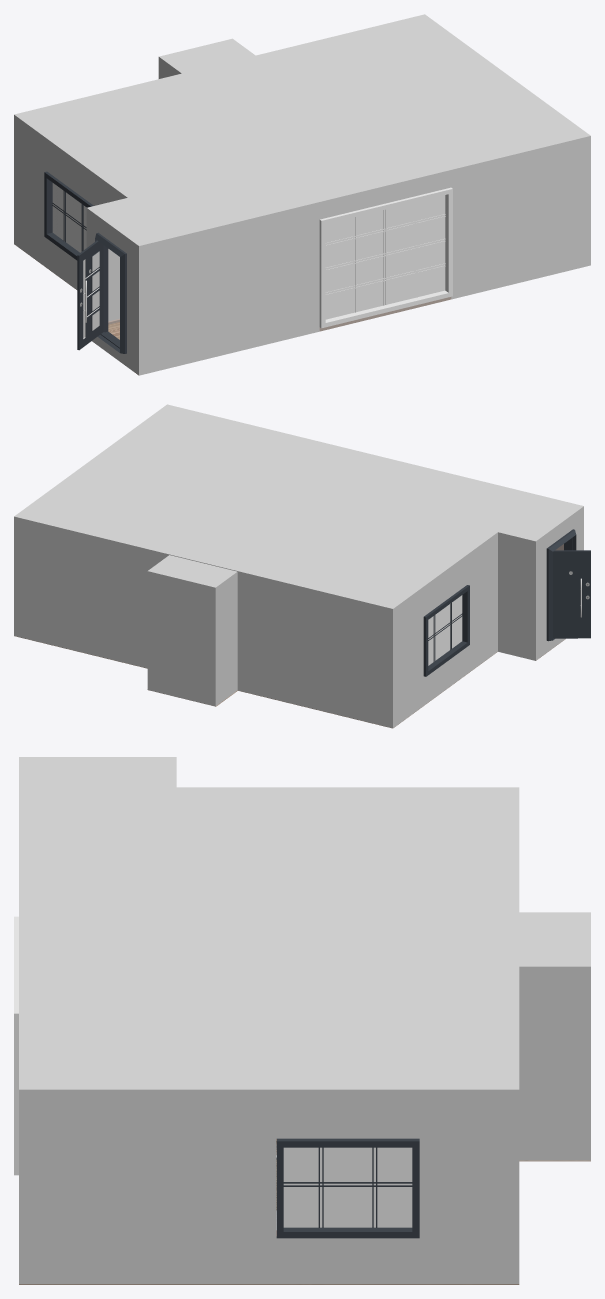
File: living-room.glb
3 views of the same model, one above another, from view 1: azimuth 30°, elevation 25°; view 2: azimuth 150°, elevation 25°; view 3: azimuth 270°, elevation 25° (orthographic). The views are drawn at different scales.
Parts seen in each view (by area): view 1: celling, wall_S, window_big, wall_W, window_small.001, Cube.065, wall_N, Cube.014, wall_E; view 2: celling, wall_N, wall_W, Cube.065, window_small.001, Cube.014, wall_E; view 3: celling, wall_E, wall_N, window_small, window_big.
Boxes of the visible parts, x1,y1,x2,y2 form: celling: (14, 14, 590, 246); wall_S: (134, 138, 582, 375); window_big: (319, 187, 452, 328); wall_W: (14, 115, 134, 371); window_small.001: (44, 171, 93, 260); Cube.065: (77, 240, 103, 350); wall_N: (158, 38, 255, 78); Cube.014: (95, 232, 126, 353); wall_E: (582, 136, 590, 267); celling: (14, 404, 583, 609); wall_N: (21, 519, 385, 726); wall_W: (385, 510, 579, 728); Cube.065: (553, 550, 590, 638); window_small.001: (423, 585, 469, 676); Cube.014: (546, 529, 576, 641); wall_E: (14, 517, 21, 637); celling: (19, 757, 519, 1090); wall_E: (19, 1090, 519, 1284); wall_N: (519, 912, 590, 1160); window_small: (276, 1138, 419, 1238); window_big: (14, 916, 18, 1175).
Size of the model in its own units: 11.92 by 3.02 by 8.07.
75 materials, 24 textured.
